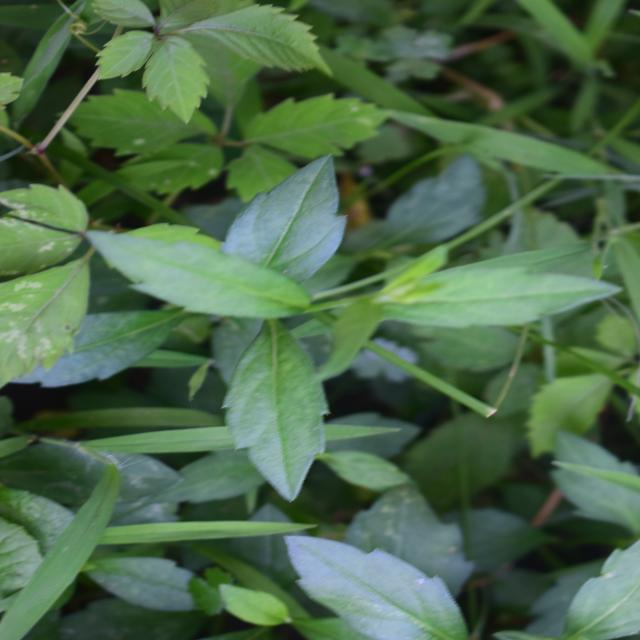Indian aster: (161, 83, 450, 505)
